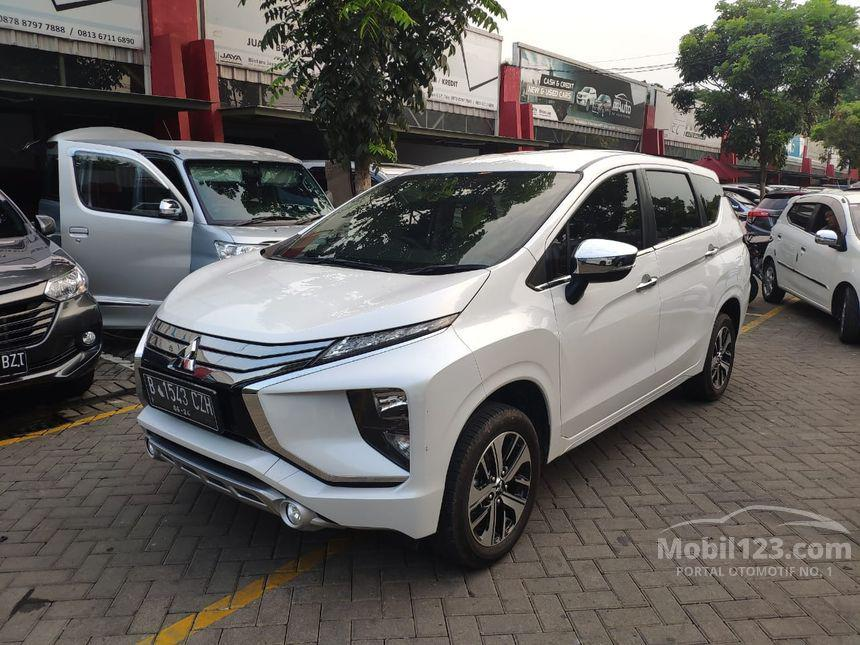plate: (142, 372, 216, 431)
